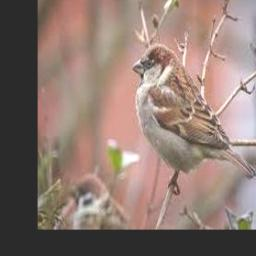Sparrow: (132, 43, 256, 192)
